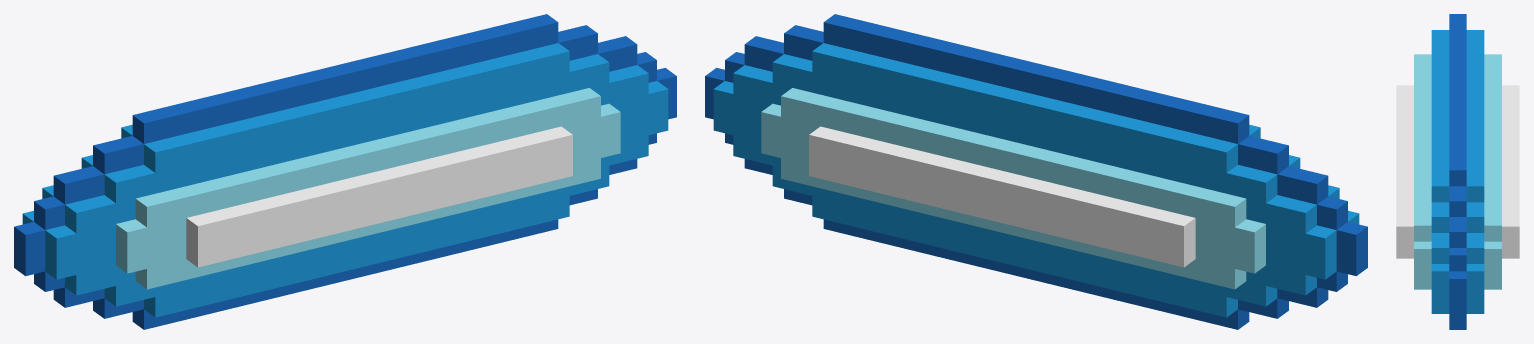
File: small_laser_beam.gltf
The picture shows the model from 3 angles, left to right: view 1: azimuth 30°, elevation 25°; view 2: azimuth 150°, elevation 25°; view 3: azimuth 270°, elevation 25°; orthographic projection. The views are drawn at different scales.
Parts seen in each view (by area): view 1: Object_2; view 2: Object_2; view 3: Object_2.
Part boxes in pixels (x1,y1,x2,y2): Object_2: (14, 14, 676, 329); Object_2: (705, 14, 1367, 329); Object_2: (1396, 14, 1519, 329).
Bounding box in the file's own units: 3.3 × 1 × 0.7.
Materials: 1 (1 with a texture image).
